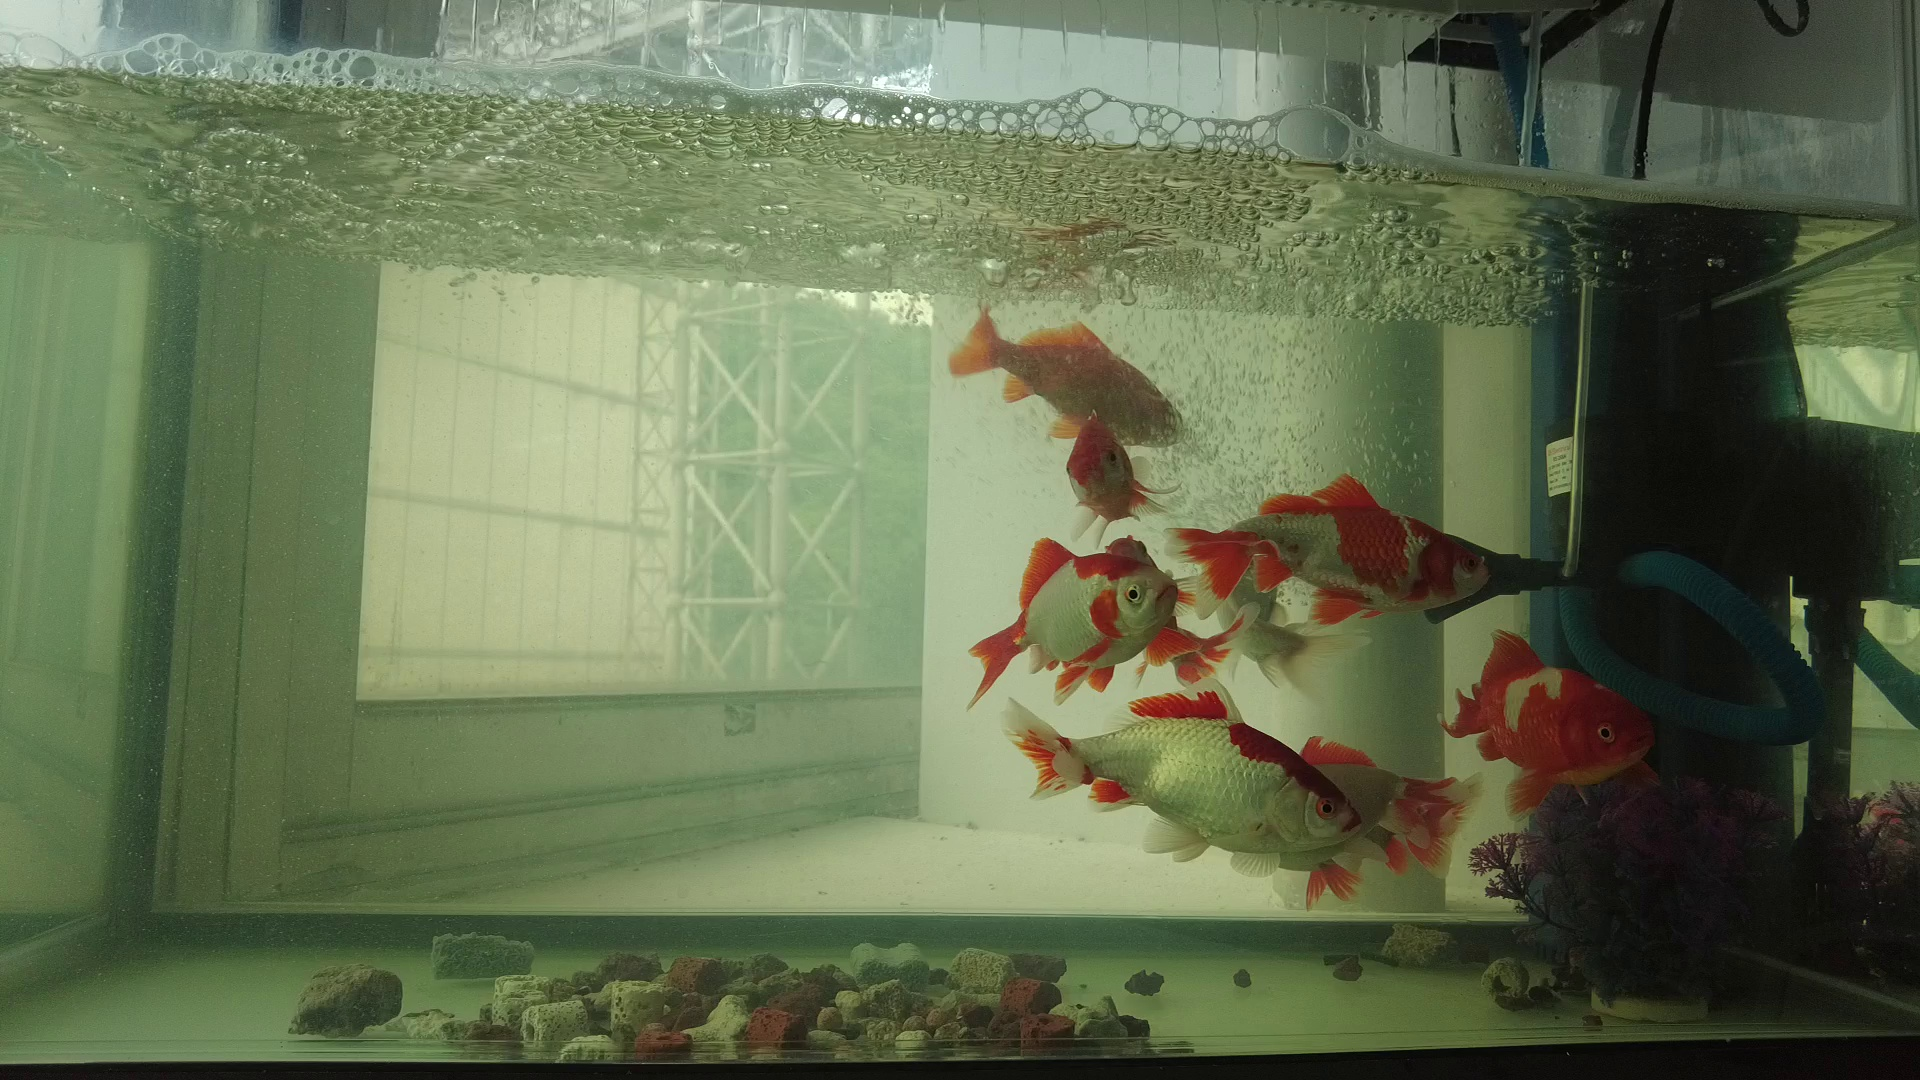fish: (988, 687, 1374, 880), (1160, 465, 1498, 633), (1422, 620, 1664, 828), (953, 524, 1187, 717), (942, 293, 1204, 452), (1273, 728, 1494, 914), (1183, 541, 1379, 700), (1058, 409, 1193, 555)
